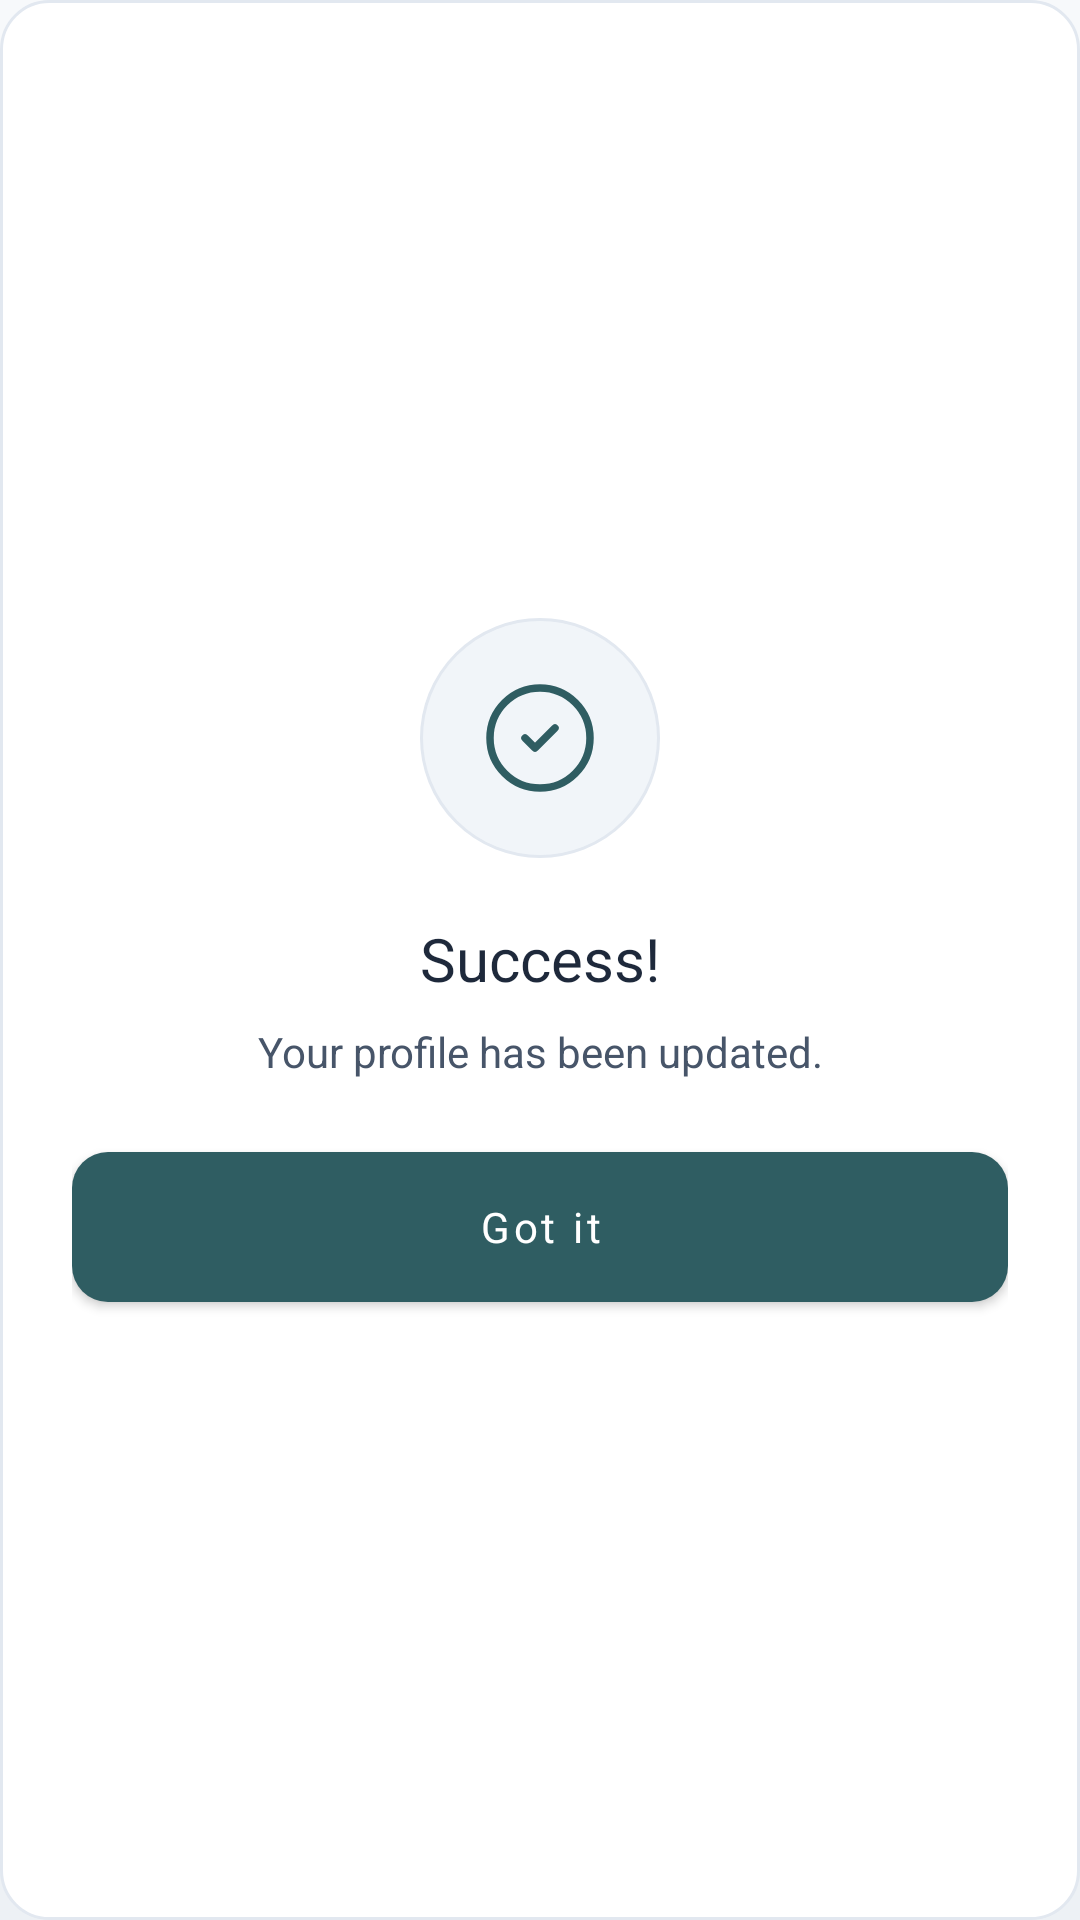

Named icons in this screenshot (1080px x 1920px) and their centers, point (x, y):
line check circle: point (540, 738)
